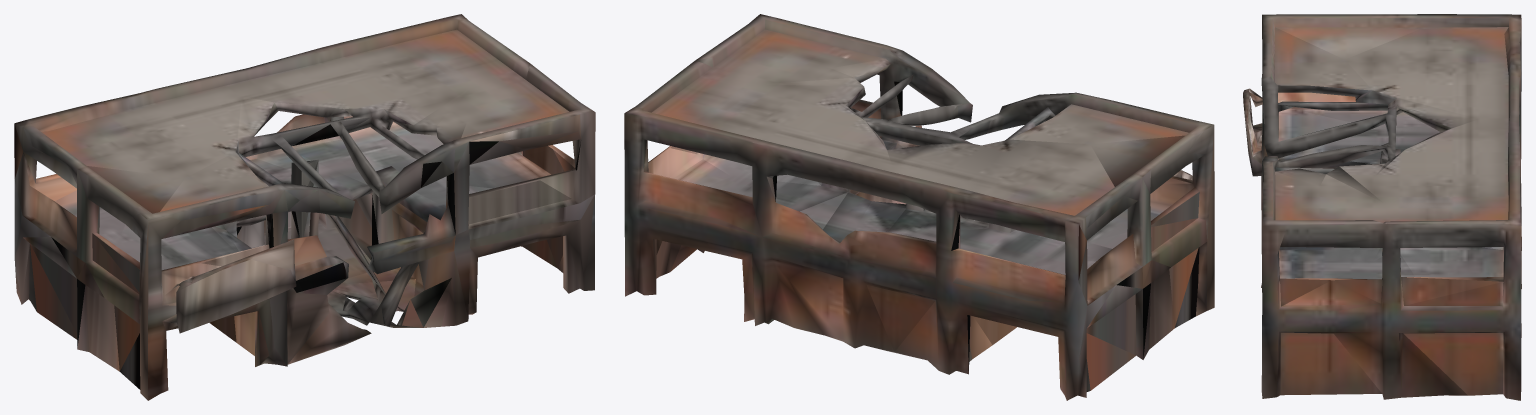
Rendered from prop_building_low.glb.
3 views of the same model, side by side, from view 1: azimuth 30°, elevation 25°; view 2: azimuth 150°, elevation 25°; view 3: azimuth 270°, elevation 25° (orthographic). The views are drawn at different scales.
Parts seen in each view (by area): view 1: Mesh_0; view 2: Mesh_0; view 3: Mesh_0.
Part boxes in pixels (<box>): Mesh_0: <box>14,14,595,400</box>; Mesh_0: <box>624,14,1214,400</box>; Mesh_0: <box>1243,14,1521,400</box>.
Size of the model in its own units: 2 by 0.7848 by 1.11.
Materials: 1 (1 with a texture image).
